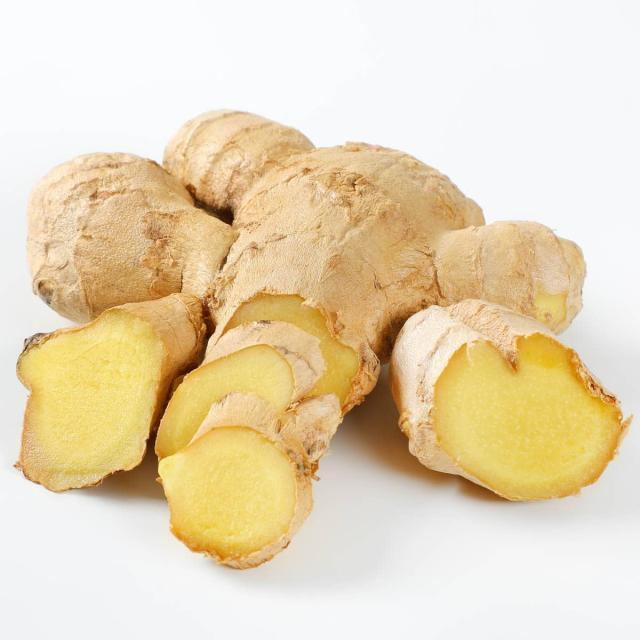ginger: (23, 151, 615, 549)
